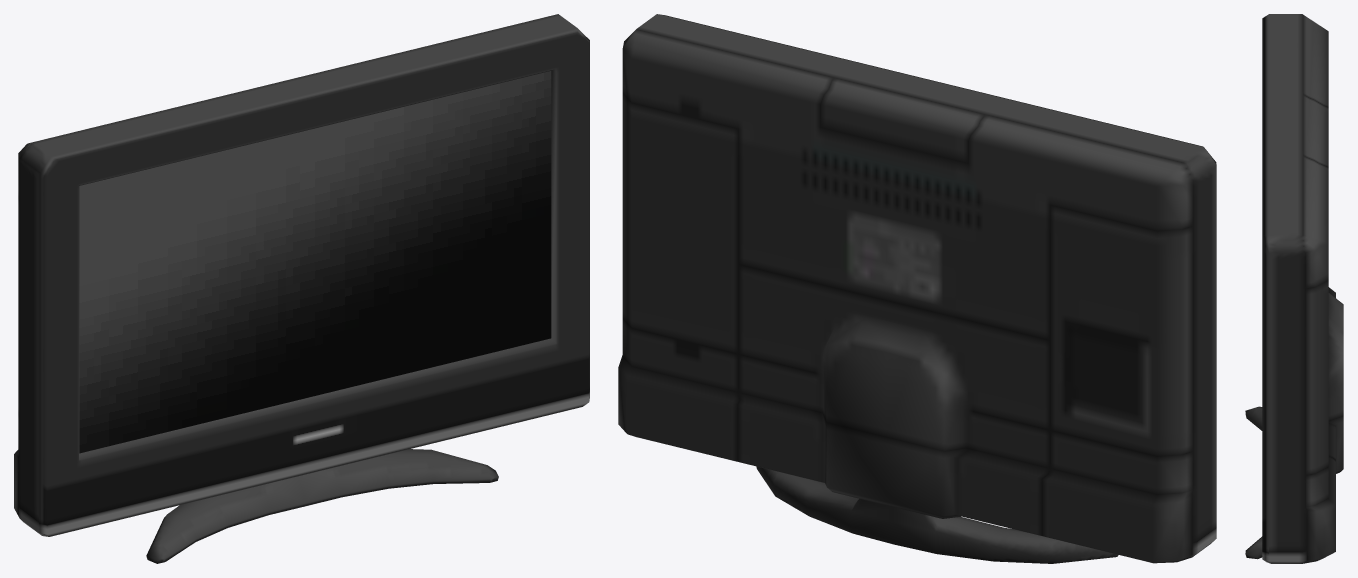
The model's file is int_oth_flat_tv.dae.
The picture shows the model from 3 angles, left to right: view 1: azimuth 30°, elevation 25°; view 2: azimuth 150°, elevation 25°; view 3: azimuth 270°, elevation 25°; orthographic projection. The views are drawn at different scales.
Visible parts, largest first — view 1: int_oth_flat_tv; view 2: int_oth_flat_tv; view 3: int_oth_flat_tv.
Boxes of the visible parts, <box> form: int_oth_flat_tv: <box>14,14,589,563</box>; int_oth_flat_tv: <box>618,14,1216,563</box>; int_oth_flat_tv: <box>1245,14,1343,563</box>.
Bounding box in the file's own units: 58.05 × 42.35 × 10.41.
2 materials, 2 textured.
